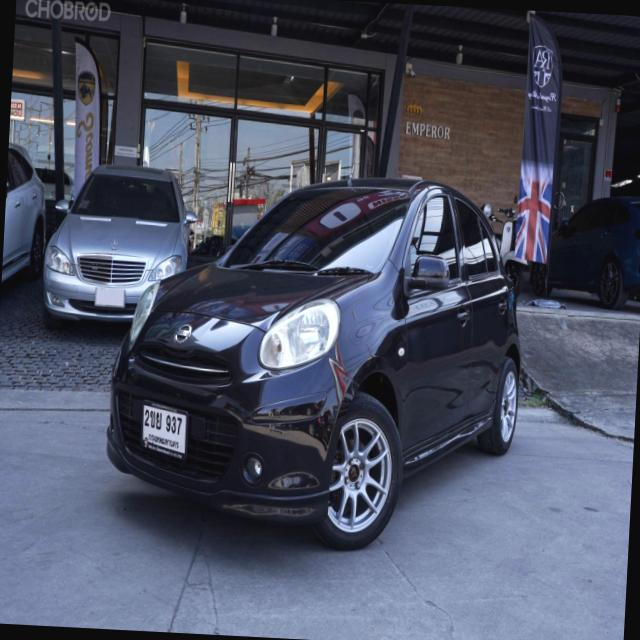license_plate: (134, 402, 195, 469)
